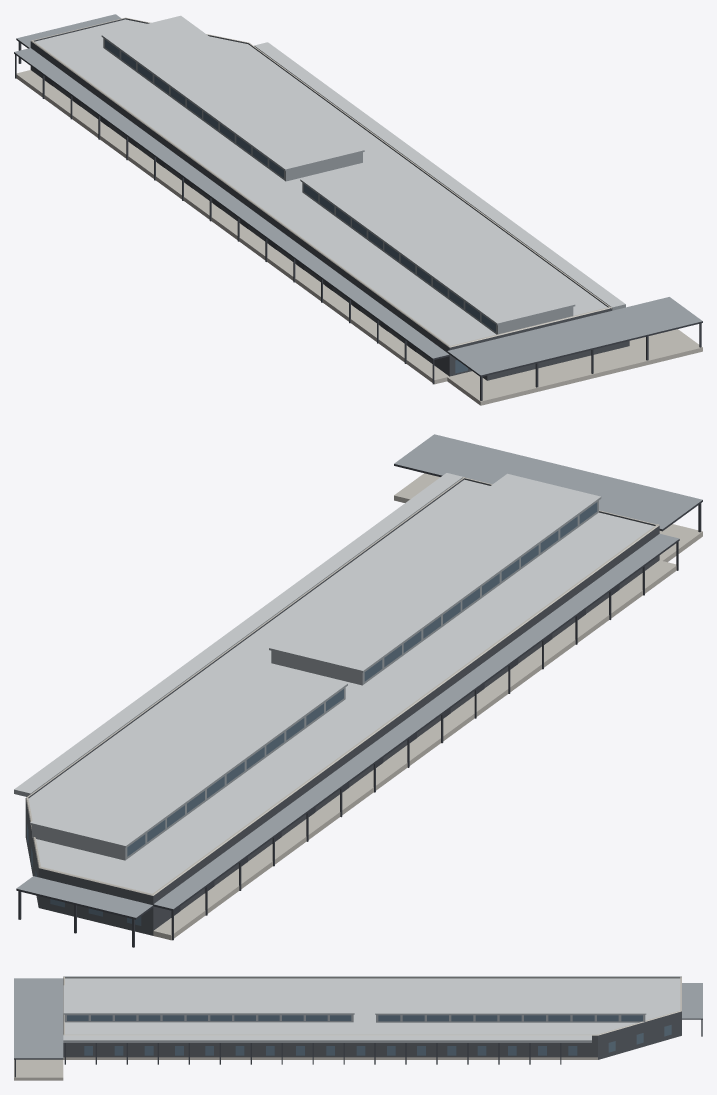
Rendered from clt-cne-gama-goat.glb.
The picture shows the model from 3 angles, top to bottom: view 1: azimuth 30°, elevation 25°; view 2: azimuth 150°, elevation 25°; view 3: azimuth 270°, elevation 25°; orthographic projection. The views are drawn at different scales.
Parts seen in each view (by area): view 1: Gama Goat Building, Camp North End; view 2: Gama Goat Building, Camp North End; view 3: Gama Goat Building, Camp North End.
Part boxes in pixels (left/top/right/bottom): Gama Goat Building, Camp North End: left=14, top=14, right=702, bottom=405; Gama Goat Building, Camp North End: left=14, top=434, right=702, bottom=947; Gama Goat Building, Camp North End: left=14, top=976, right=702, bottom=1080.
Bounding box in the file's own units: 59.6 × 10.9 × 204.
